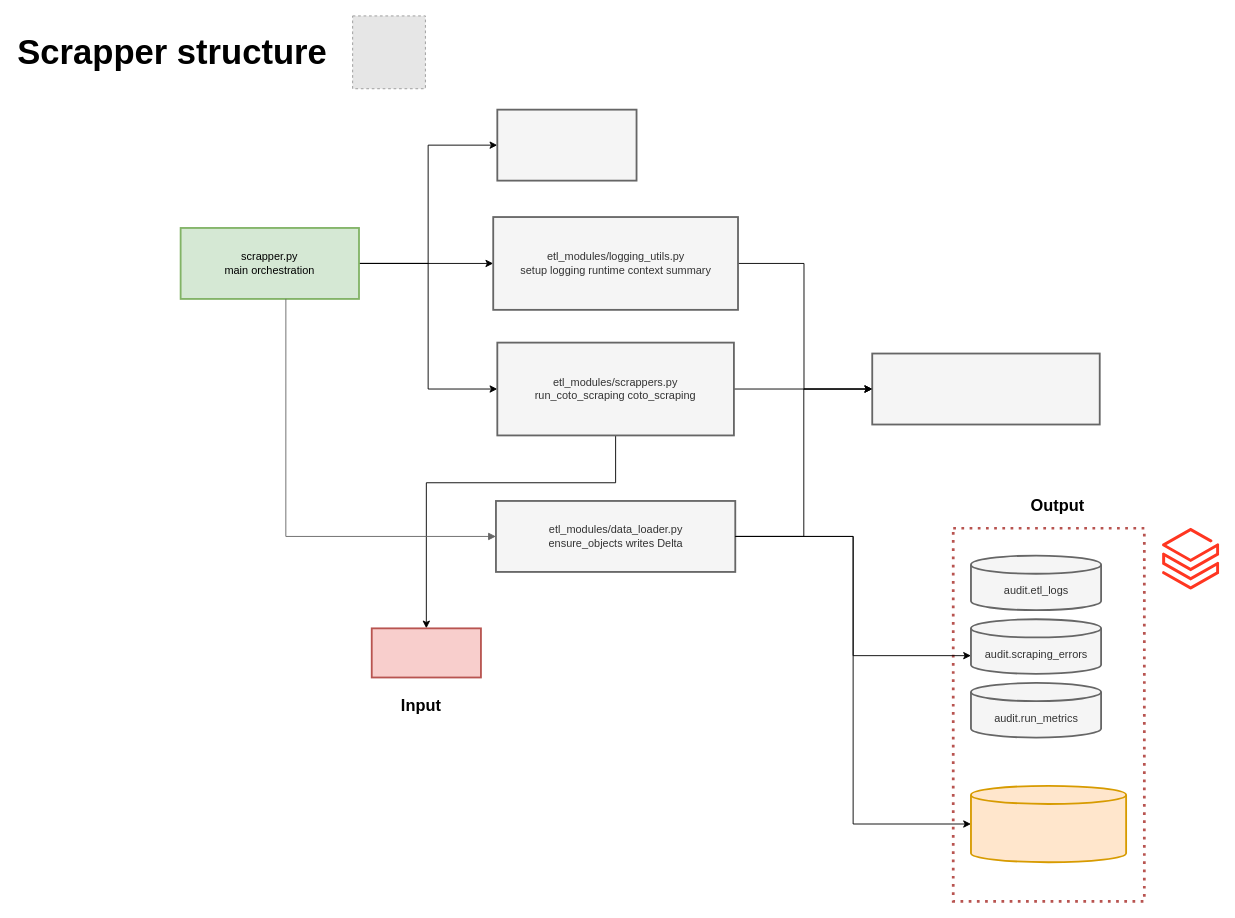
This 1235x918 diagram has some shape labels left out. Grey dashed boxes stand in for pictures. The centre of each missing label's shape, as x and y in pixels:
"bronze.precios_scraping" goes at pixel 1048 823.
"Coto API" goes at pixel 425 652.
"etl_modules/config.py ENV catalog tables params" goes at pixel 985 388.
"productos.py URLS source" goes at pixel 566 144.
